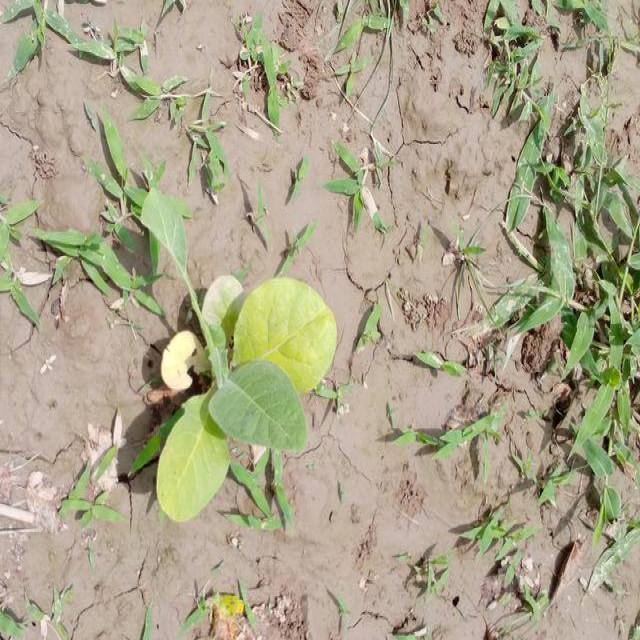crop: (122, 190, 316, 514)
